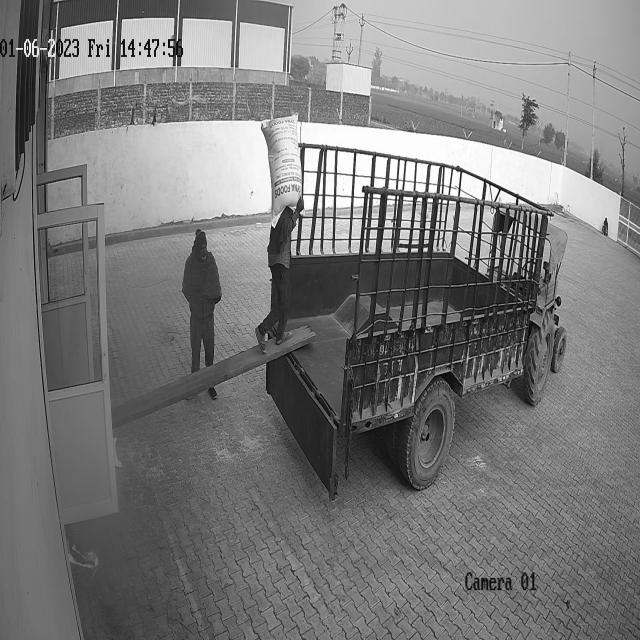sack: (260, 111, 302, 228)
